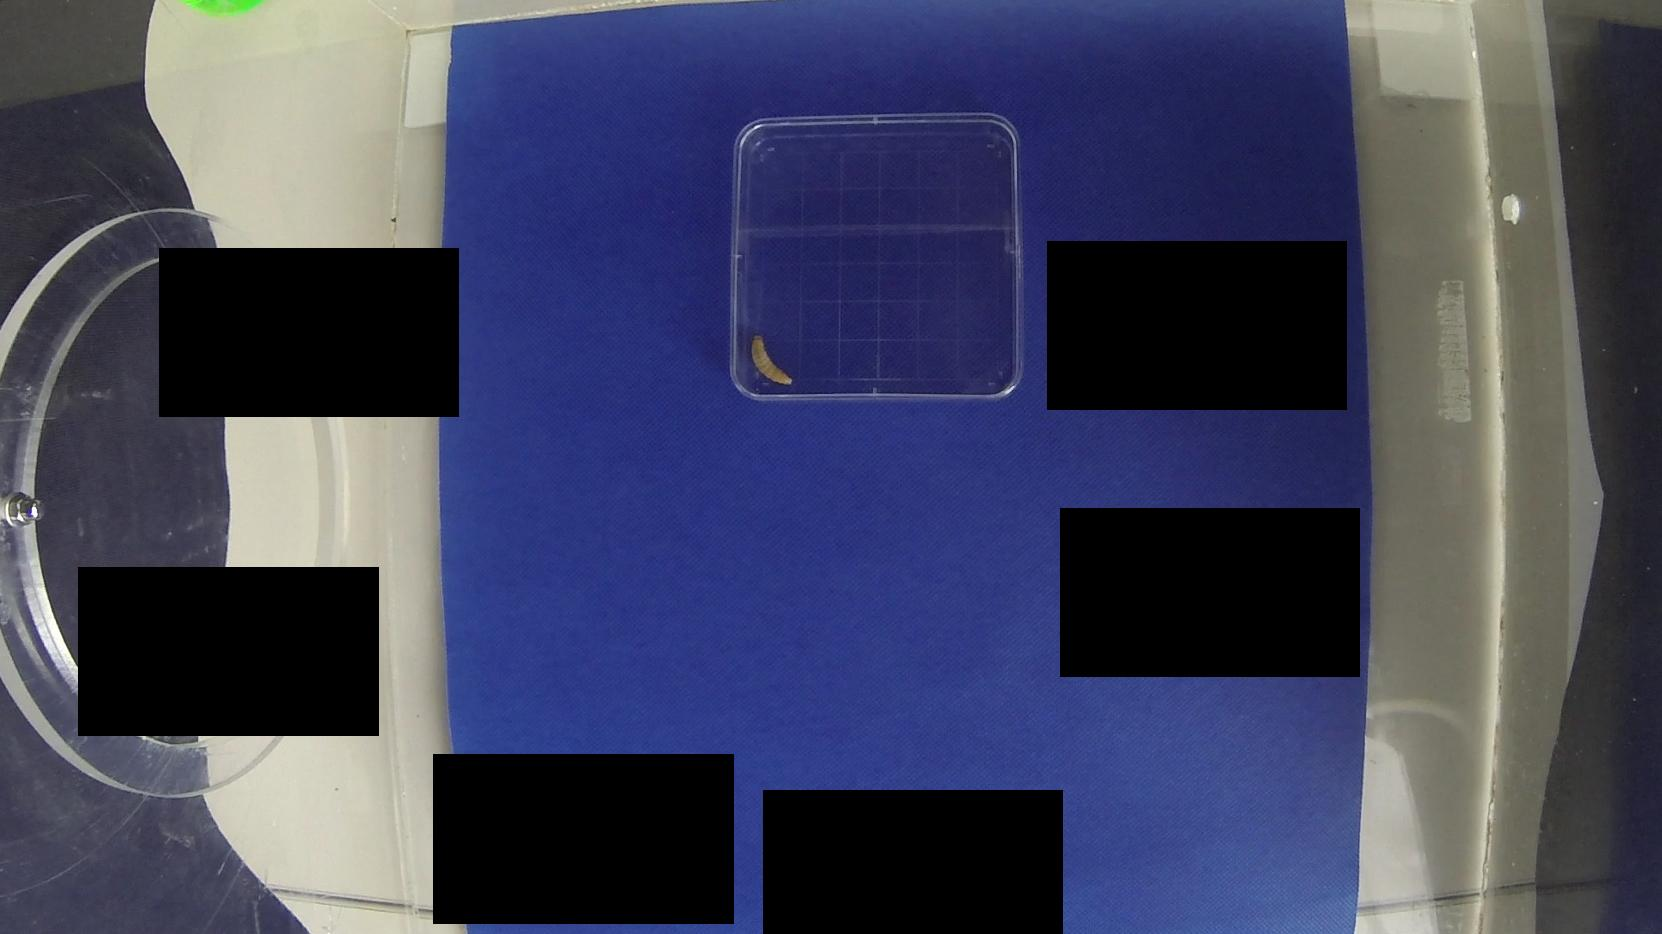larva: (745, 331, 802, 393)
